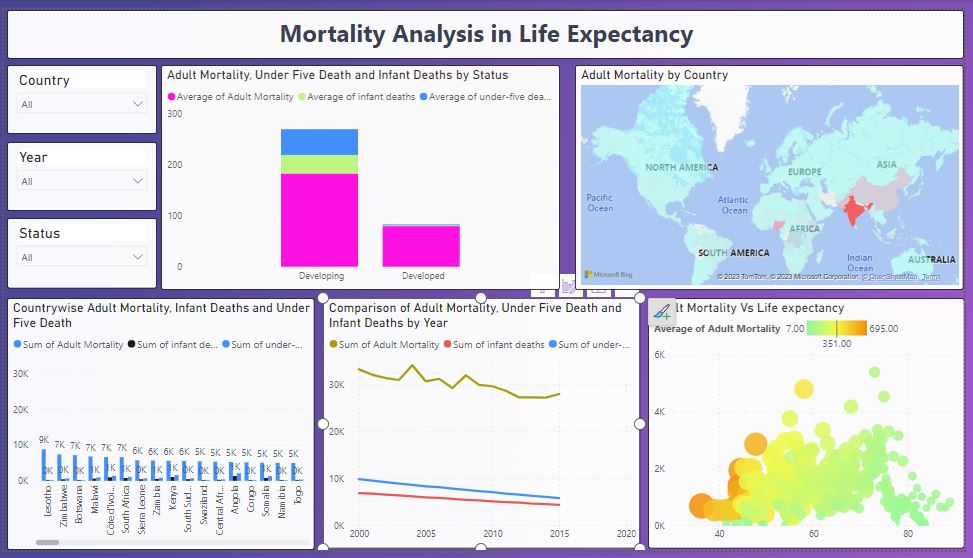

The page's visual inventory and layout, read from the dashboard file:
{"tool":"powerbi","page":{"name":"Mortality Analysis","canvas":[1280,720],"ordinal":1},"visuals":[{"type":"textbox","box":[4.3,0,1275.8,64.8],"z":0},{"type":"lineChart","title":"Comparison of Adult Mortality, Under Five Death and Infant Deaths by Year","fields":{"Category":["Life Expectancy Data.Year"],"Y":["Sum(Life Expectancy Data.Adult Mortality)","Sum(Life Expectancy Data.infant deaths)","Sum(Life Expectancy Data.under-five deaths )"]},"box":[424.8,384.5,423.4,334.1],"z":1000},{"type":"clusteredColumnChart","title":"Countrywise Adult Mortality, Infant Deaths and Under Five Death","fields":{"Category":["Life Expectancy Data.Country"],"Y":["Sum(Life Expectancy Data.Adult Mortality)","Sum(Life Expectancy Data.infant deaths)","Sum(Life Expectancy Data.under-five deaths )"]},"box":[4.3,384.5,410.4,335.5],"z":2000},{"type":"slicer","fields":{"Values":["Life Expectancy Data.Country"]},"box":[4.3,73.4,200.2,92.2],"z":3000},{"type":"slicer","fields":{"Values":["Life Expectancy Data.Year"]},"box":[4.3,175.7,200.2,92.2],"z":4000},{"type":"slicer","fields":{"Values":["Life Expectancy Data.Status"]},"box":[4.3,277.9,200.2,93.6],"z":5000},{"type":"filledMap","title":" Adult Mortality by Country","fields":{"Category":["Life Expectancy Data.Country"]},"box":[761.8,73.4,518.4,299.5],"z":6000},{"type":"columnChart","title":" Adult Mortality, Under Five Death and Infant Deaths by Status","fields":{"Category":["Life Expectancy Data.Status"],"Y":["Avg(Life Expectancy Data.Adult Mortality)","Avg(Life Expectancy Data.infant deaths)","Avg(Life Expectancy Data.under-five deaths )"]},"box":[209.3,73.3,532,300],"z":7000},{"type":"scatterChart","title":" Adult Mortality Vs Life expectancy ","fields":{"X":["Life Expectancy Data.Life expectancy "],"Y":["Sum(Life Expectancy Data.Adult Mortality)"],"Size":["Avg(Life Expectancy Data.Adult Mortality)"]},"box":[858.2,384.5,421.9,334.1],"z":8000}]}

Visuals, with their boxes in screenshot pixels (x1, y1, x2, y2), scaled from the page's 1280x720 canvas onto the 973x558 screenshot:
textbox: x1=3 y1=0 x2=972 y2=50
"Comparison of Adult Mortality, Under Five Death and Infant Deaths by Year" lineChart: x1=323 y1=298 x2=645 y2=557
"Countrywise Adult Mortality, Infant Deaths and Under Five Death" clusteredColumnChart: x1=3 y1=298 x2=315 y2=557
slicer - Life Expectancy Data.Country: x1=3 y1=57 x2=155 y2=128
slicer - Life Expectancy Data.Year: x1=3 y1=136 x2=155 y2=208
slicer - Life Expectancy Data.Status: x1=3 y1=215 x2=155 y2=288
" Adult Mortality by Country" filledMap: x1=579 y1=57 x2=972 y2=289
" Adult Mortality, Under Five Death and Infant Deaths by Status" columnChart: x1=159 y1=57 x2=564 y2=289
" Adult Mortality Vs Life expectancy " scatterChart: x1=652 y1=298 x2=972 y2=557
